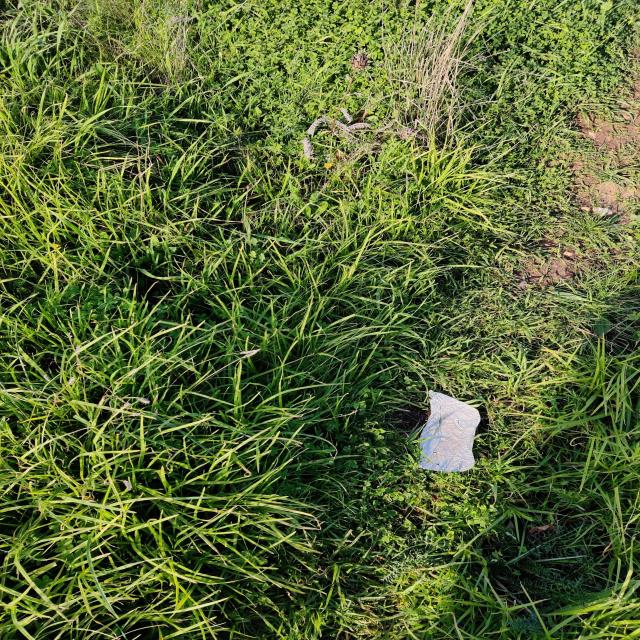litter: (418, 391, 477, 473)
